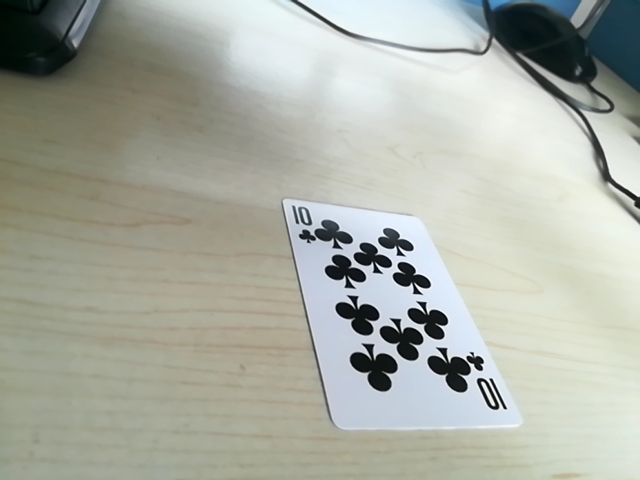mh 10: (465, 360, 503, 418), (285, 205, 325, 248)
